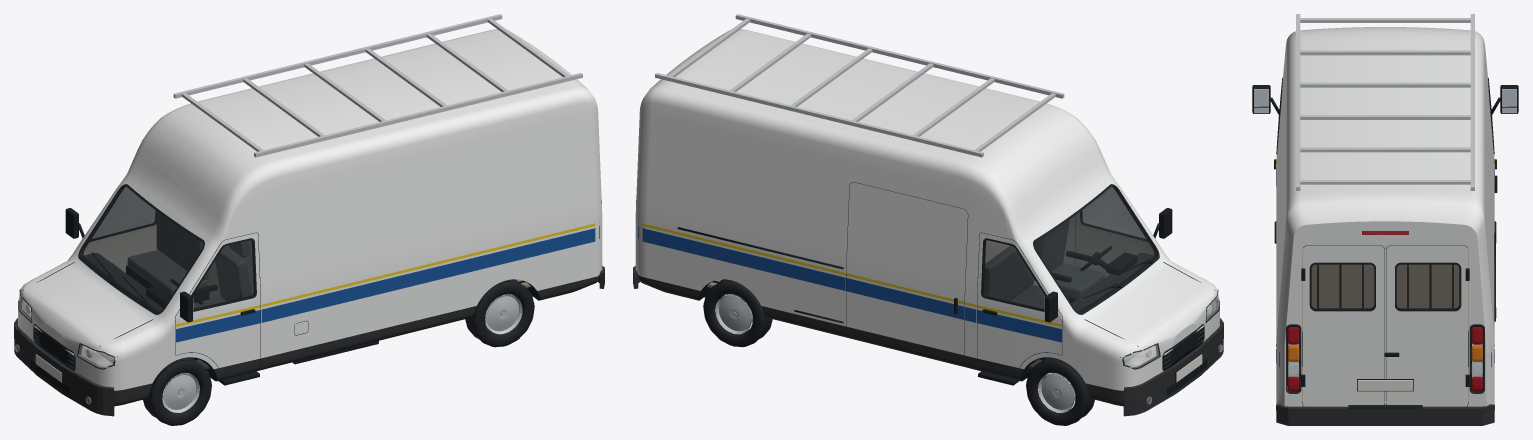
Rendered from service-van-detailed.glb.
The picture shows the model from 3 angles, left to right: view 1: azimuth 30°, elevation 25°; view 2: azimuth 150°, elevation 25°; view 3: azimuth 270°, elevation 25°; orthographic projection. The views are drawn at different scales.
Parts seen in each view (by area): view 1: Original high-roof panel van lofted shell, Raked laminated windscreen glazing, Fleet blue band decal.001, Driver cab door, Cab door window glazing, Front bumper, Tyre with tread blocks, Tyre with tread blocks.002, Roof rack side rail, Roof rack side rail.001, Passenger cab door, Two-person passenger bench back cushion (+18 smaller); view 2: Original high-roof panel van lofted shell, Kerbside sliding door, Raked laminated windscreen glazing, Passenger cab door, Fleet blue band decal.005, Cab door window glazing.001, Front bumper, Tyre with tread blocks.001, Tyre with tread blocks.003, Driver cab door, Roof rack side rail.001, Roof rack side rail (+19 smaller); view 3: Original high-roof panel van lofted shell, Left rear barn door, Right rear barn door, Load floor, Rear bumper, Rear door window glazing, Rear door window glazing.001, Roof rack crossbar.001, Roof rack crossbar.002, Roof rack crossbar.004, Roof rack side rail, Roof rack side rail.001 (+11 smaller).
Part boxes in pixels (x1,y1,x2,y2): Original high-roof panel van lofted shell: (18,29,602,406); Raked laminated windscreen glazing: (80,186,202,312); Fleet blue band decal.001: (261,225,599,322); Driver cab door: (175,232,260,369); Cab door window glazing: (192,240,254,309); Front bumper: (14,318,114,416); Tyre with tread blocks: (143,357,211,425); Tyre with tread blocks.002: (465,279,534,347); Roof rack side rail: (254,73,582,157); Roof rack side rail.001: (173,14,502,98); Passenger cab door: (83,216,157,272); Two-person passenger bench back cushion: (156,211,208,280); Original high-roof panel van lofted shell: (635,29,1219,406); Kerbside sliding door: (846,182,968,361); Raked laminated windscreen glazing: (1035,186,1157,312); Passenger cab door: (977,232,1062,369); Fleet blue band decal.005: (638,225,845,290); Cab door window glazing.001: (983,240,1045,309); Front bumper: (1123,318,1223,416); Tyre with tread blocks.001: (1026,357,1094,425); Tyre with tread blocks.003: (703,279,772,347); Driver cab door: (1075,211,1154,277); Roof rack side rail.001: (655,73,983,157); Roof rack side rail: (735,14,1064,98); Original high-roof panel van lofted shell: (1276,27,1494,406); Left rear barn door: (1303,245,1384,406); Right rear barn door: (1386,245,1467,406); Load floor: (1302,248,1468,403); Rear bumper: (1276,404,1494,425); Rear door window glazing: (1311,264,1374,309); Rear door window glazing.001: (1396,264,1459,309); Roof rack crossbar.001: (1300,50,1470,55); Roof rack crossbar.002: (1300,82,1470,87); Roof rack crossbar.004: (1300,147,1470,152); Roof rack side rail: (1296,14,1300,190); Roof rack side rail.001: (1470,14,1474,190).
Size of the model in its own units: 6.03 by 2.78 by 2.5.
23 materials, 23 textured.
